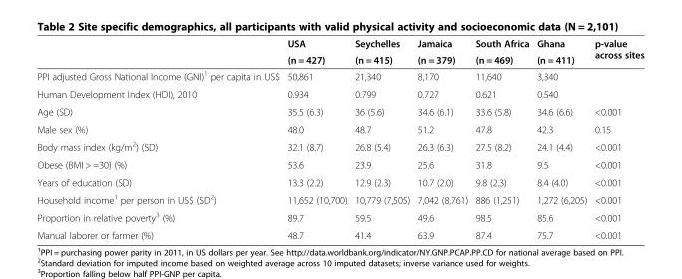table: (36, 37, 643, 240)
table column: (36, 37, 282, 240), (282, 37, 350, 240), (350, 37, 413, 240), (470, 37, 532, 240), (532, 37, 590, 240), (413, 37, 470, 240), (590, 37, 643, 240)
table column header: (36, 37, 643, 67)
table row: (36, 207, 643, 226), (36, 67, 643, 85), (36, 102, 643, 120), (36, 137, 643, 155), (36, 155, 643, 173), (36, 85, 643, 102), (36, 120, 643, 137), (36, 173, 643, 190), (36, 190, 643, 207), (36, 51, 643, 67), (36, 37, 643, 51), (36, 226, 643, 240)
table spanning cell: (282, 37, 350, 67), (350, 37, 413, 67), (470, 37, 532, 67), (532, 37, 590, 67), (413, 37, 470, 67), (590, 37, 643, 67)
